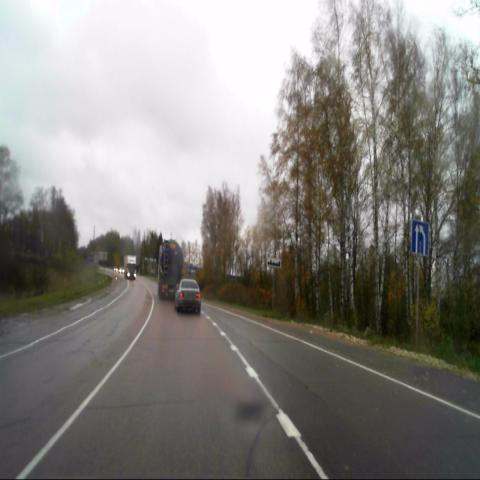5_15_5: (410, 221, 430, 258)
